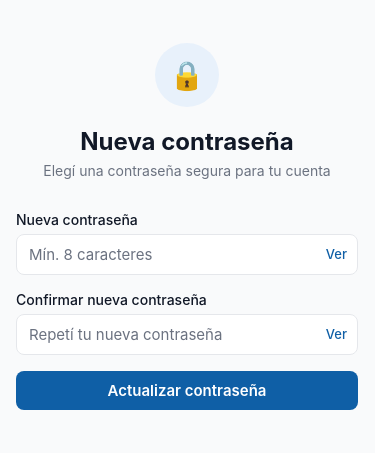
ResetPasswordScreen › shows supabase error on failure
Type "newpassword" into the password field with placeholder "Mín. 8 caracteres" at {"x": 171, "y": 254}, box [17,234,326,274]
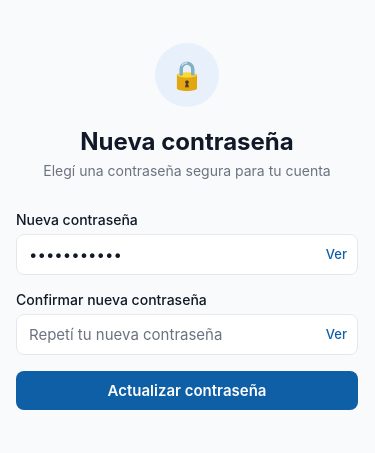
Type "newpassword" into the password field with placeholder "Repetí tu nueva contraseña" at {"x": 171, "y": 334}, box [17,314,326,354]
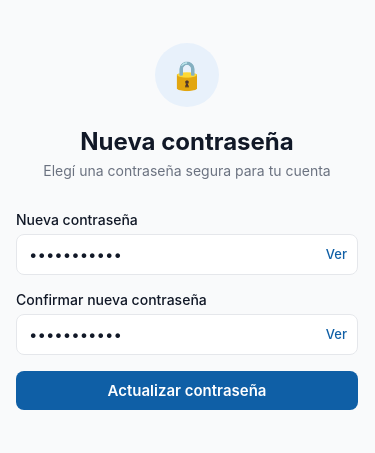
Click the text "Actualizar contraseña" at {"x": 187, "y": 390}, box [108,380,266,400]
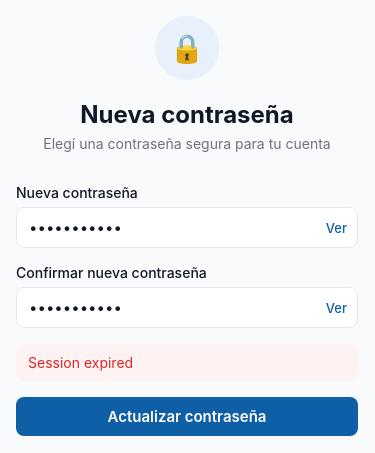
Now the text "Session expired" is shown, box [28,354,133,371]
